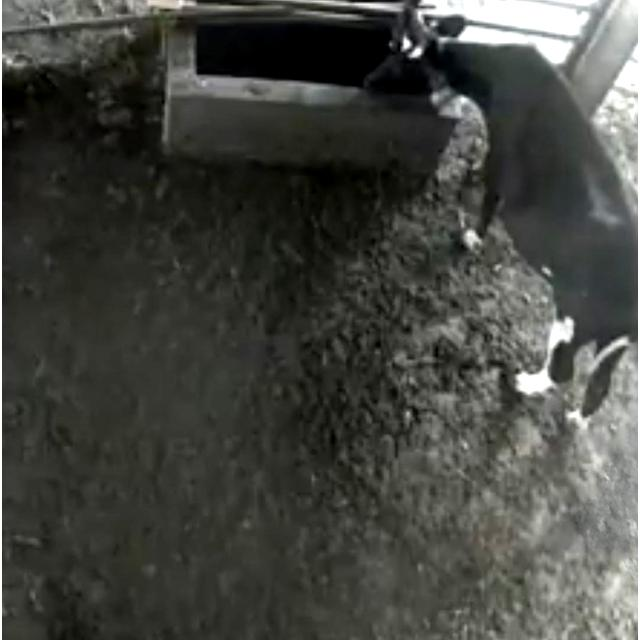drink: (357, 7, 519, 113)
